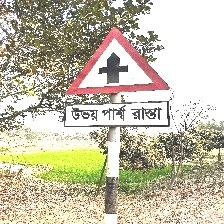Crossroad: (63, 27, 173, 130)
